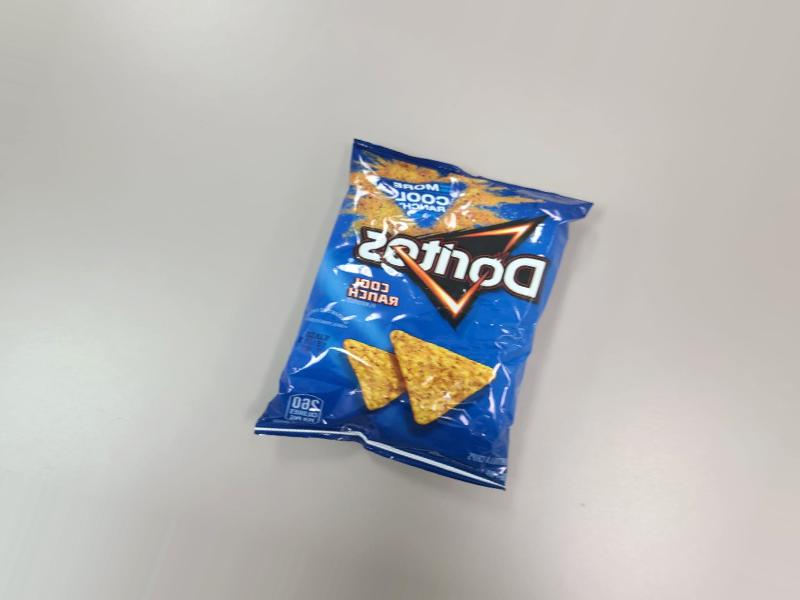doritos: (269, 126, 576, 503)
